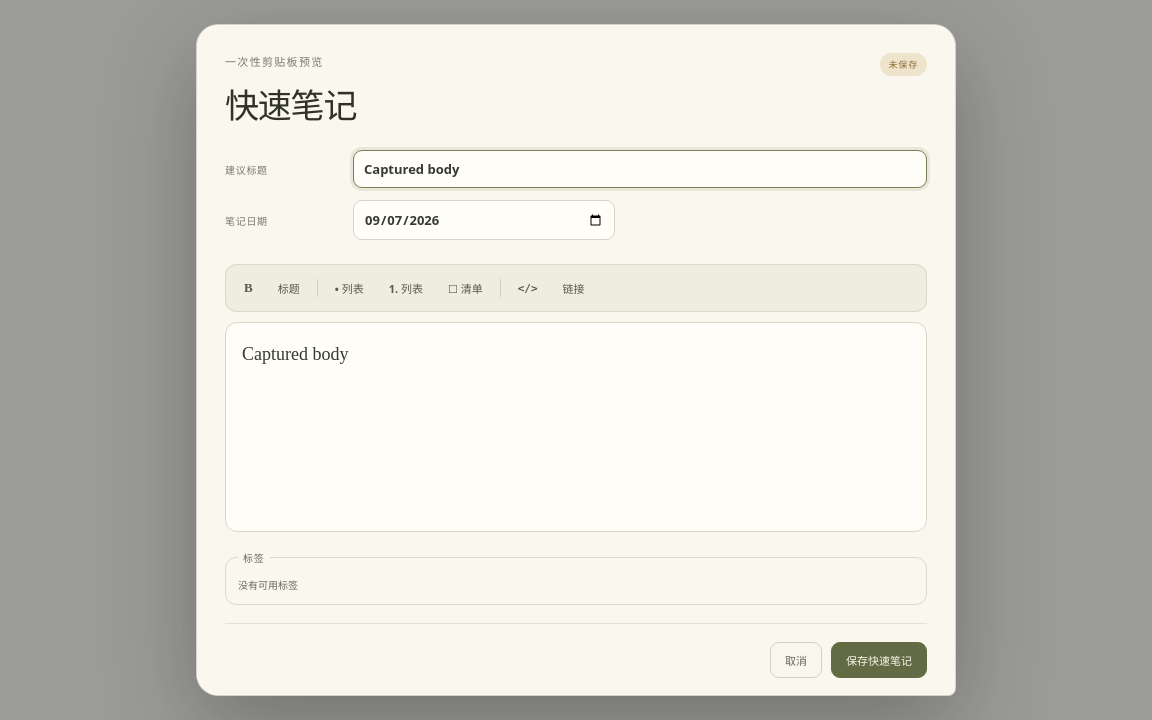
Scenario: B08 Quick Capture review dialog › keeps the in-memory review open when deliberate save fails
Step 1. Click the button "保存快速笔记" → (879, 660), box [831, 642, 927, 678]
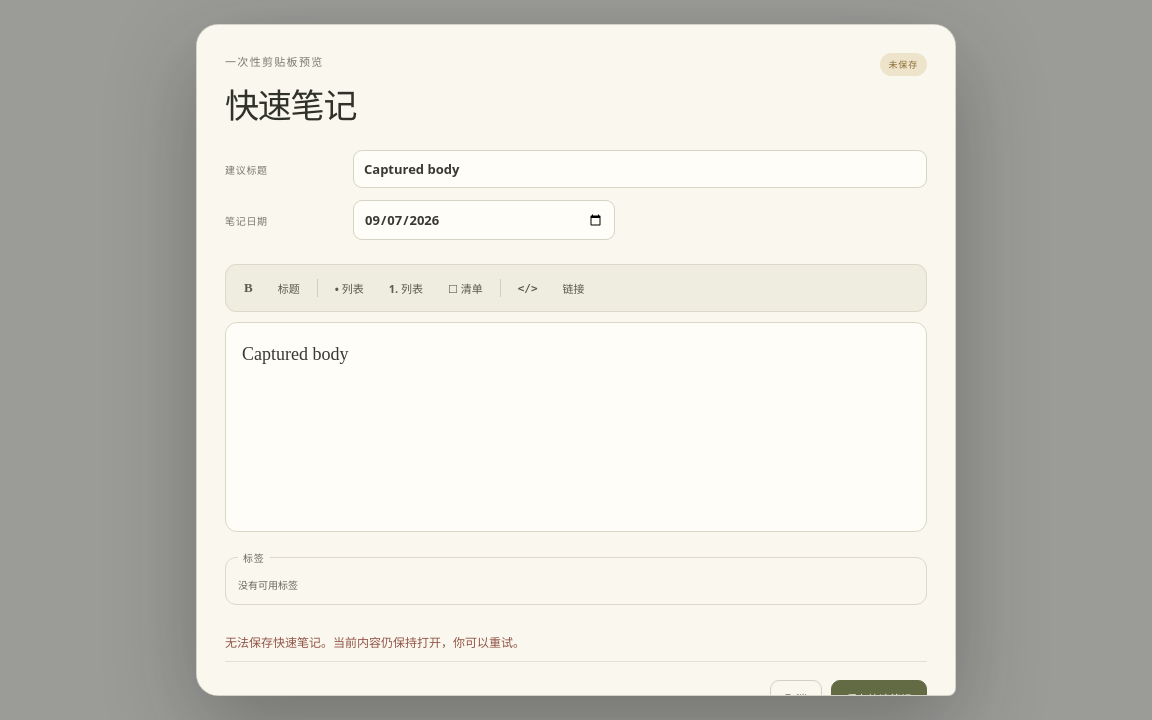
Expected: the field named "快速笔记正文" reads "Captured body", [242, 344, 348, 364]
Expected: the message shows "当前内容仍保持打开", [225, 634, 525, 651]
